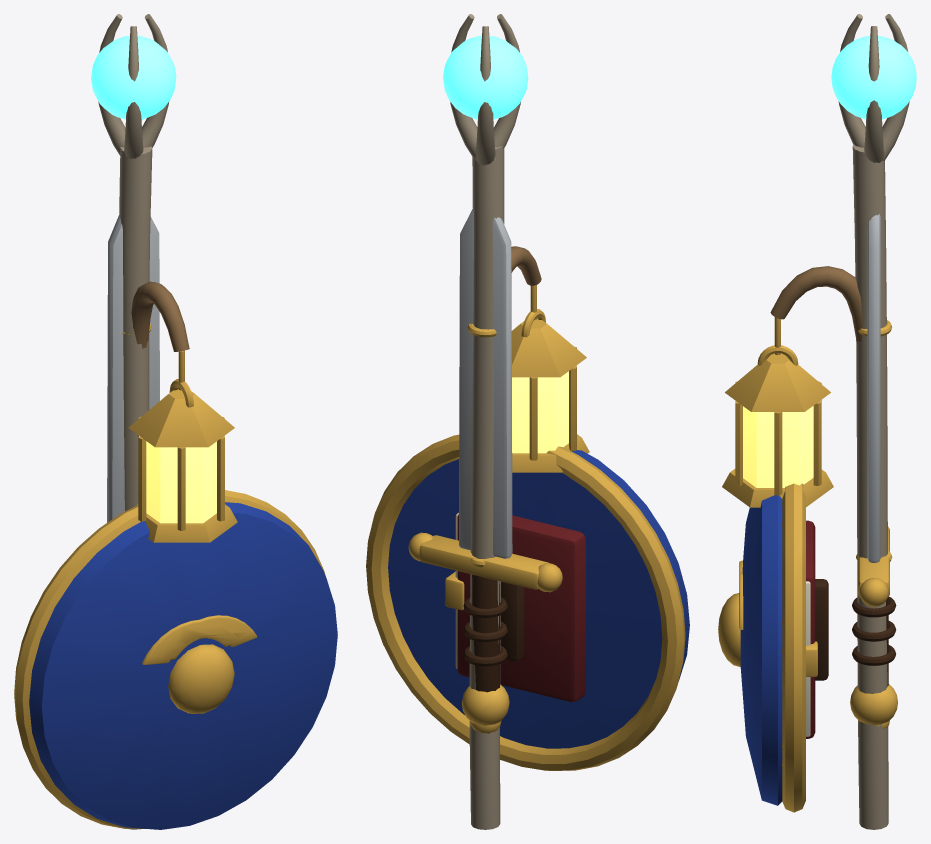
File: class-weapons.glb
The picture shows the model from 3 angles, left to right: view 1: azimuth 30°, elevation 25°; view 2: azimuth 150°, elevation 25°; view 3: azimuth 270°, elevation 25°; orthographic projection.
Visible parts, largest first — view 1: weapon_shield_mesh, weapon_staff_mesh, weapon_lantern_mesh, weapon_sword_mesh; view 2: weapon_shield_mesh, weapon_staff_mesh, weapon_sword_mesh, weapon_hymnal_mesh, weapon_lantern_mesh; view 3: weapon_staff_mesh, weapon_shield_mesh, weapon_lantern_mesh, weapon_sword_mesh, weapon_hymnal_mesh.
Part boxes in pixels (x1,y1,x2,y2): weapon_shield_mesh: (14, 490, 337, 829); weapon_staff_mesh: (91, 14, 176, 829); weapon_lantern_mesh: (122, 281, 237, 542); weapon_sword_mesh: (107, 215, 159, 522); weapon_shield_mesh: (366, 434, 689, 770); weapon_staff_mesh: (443, 14, 528, 829); weapon_sword_mesh: (408, 209, 562, 725); weapon_hymnal_mesh: (445, 512, 585, 701); weapon_lantern_mesh: (467, 246, 589, 733); weapon_staff_mesh: (831, 14, 916, 829); weapon_shield_mesh: (718, 483, 828, 812); weapon_lantern_mesh: (722, 266, 892, 728); weapon_sword_mesh: (850, 214, 897, 724); weapon_hymnal_mesh: (806, 520, 817, 738).
Bounding box in the file's own units: 0.137 × 0.3328 × 0.0744.
